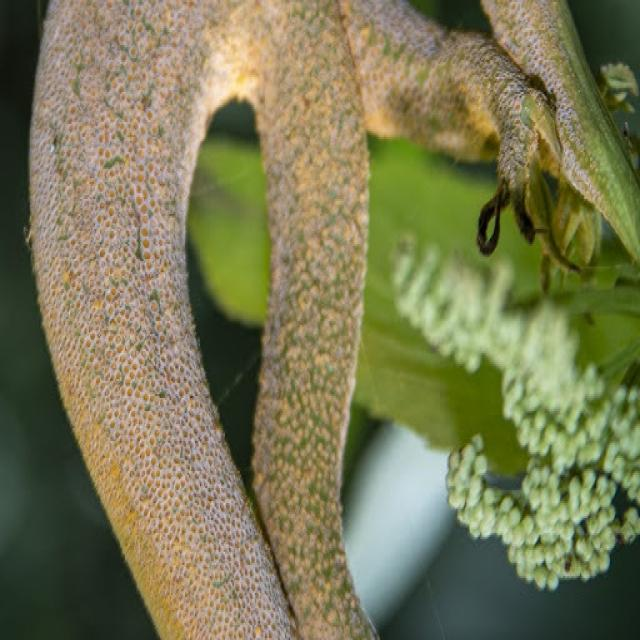Elderberry_rust: (24, 0, 635, 636)
